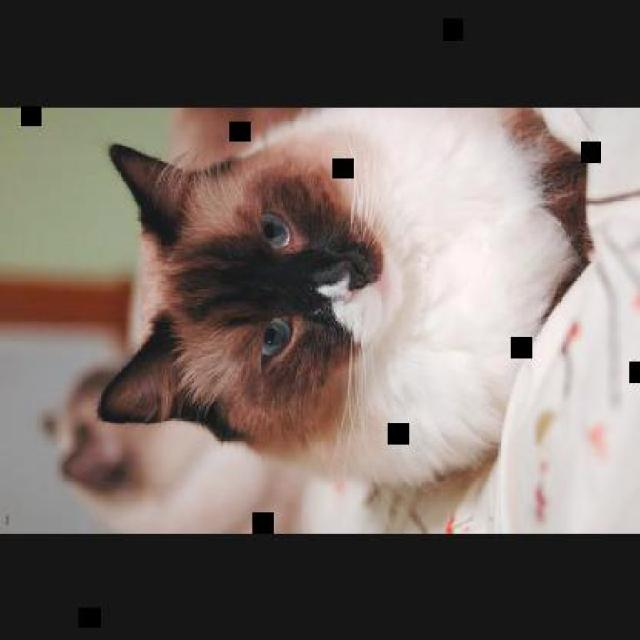unauthorized: (95, 107, 594, 516)
